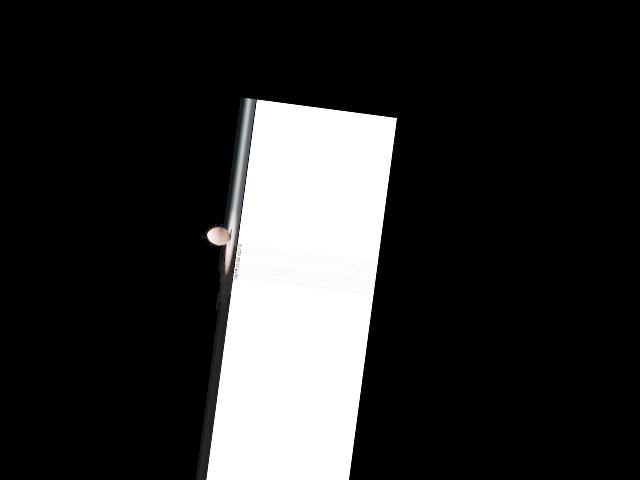egg: (206, 225, 231, 246)
